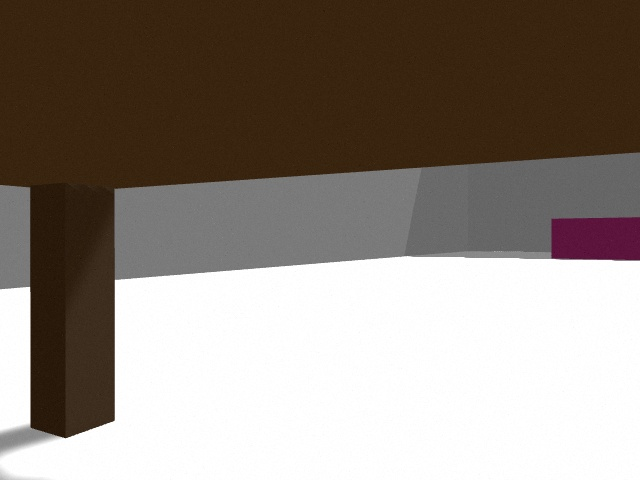red_drop_zone: (551, 217, 640, 260)
